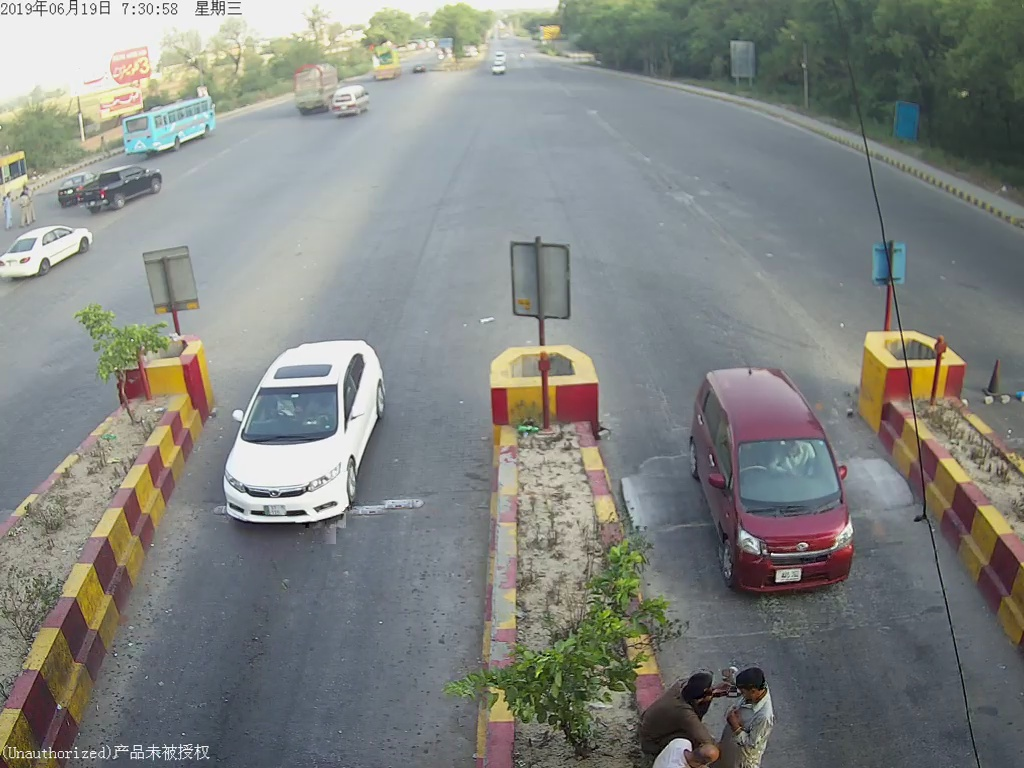Cat-1: (680, 356, 859, 610), (212, 332, 414, 551)
